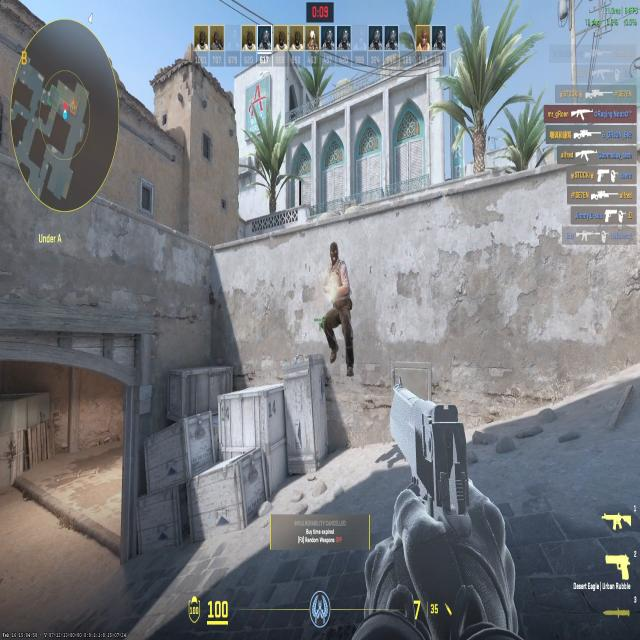player: (316, 238, 368, 382)
